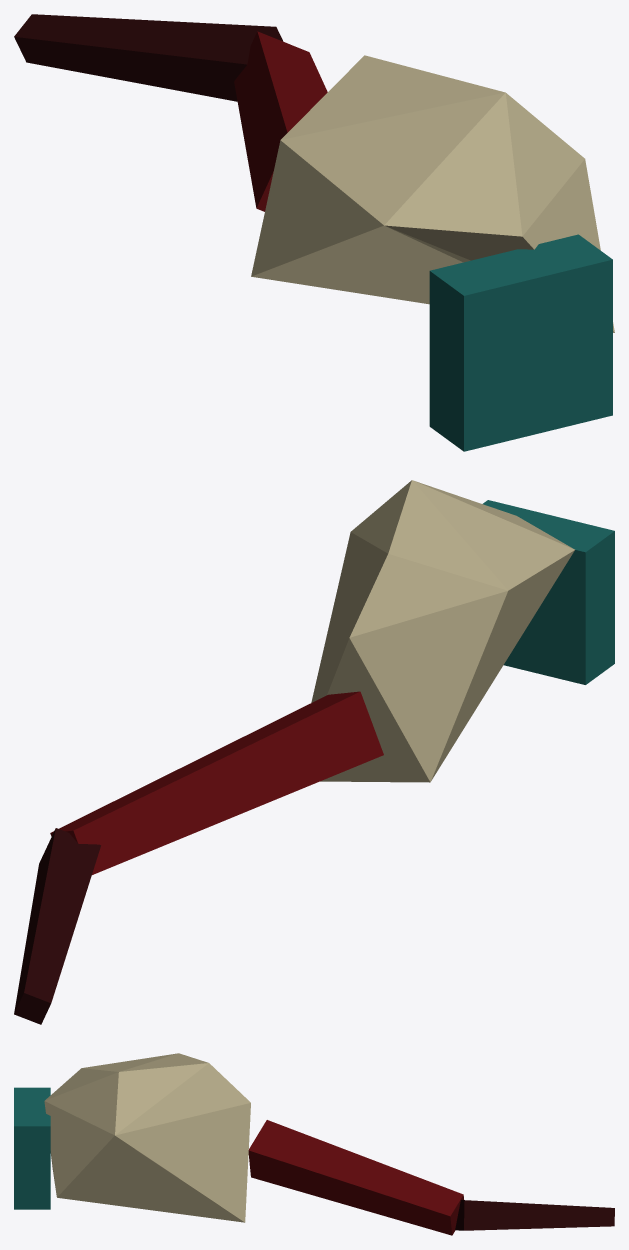
Rendered from gib_09.glb.
The picture shows the model from 3 angles, top to bottom: view 1: azimuth 30°, elevation 25°; view 2: azimuth 150°, elevation 25°; view 3: azimuth 270°, elevation 25°; orthographic projection. The views are drawn at different scales.
Parts seen in each view (by area): view 1: gib_09; view 2: gib_09; view 3: gib_09.
Boxes of the visible parts, bbox=[...] form: gib_09: bbox=[14, 14, 614, 451]; gib_09: bbox=[14, 480, 614, 1024]; gib_09: bbox=[14, 1053, 614, 1235].
Bounding box in the file's own units: 0.0571 × 0.0576 × 0.1963.
